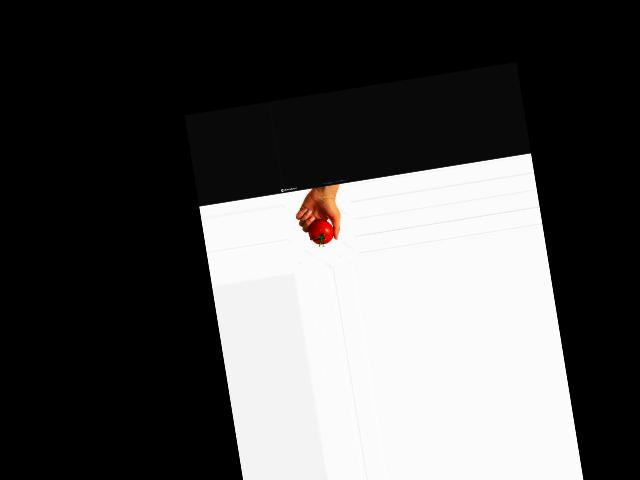tomato: (307, 217, 335, 246)
